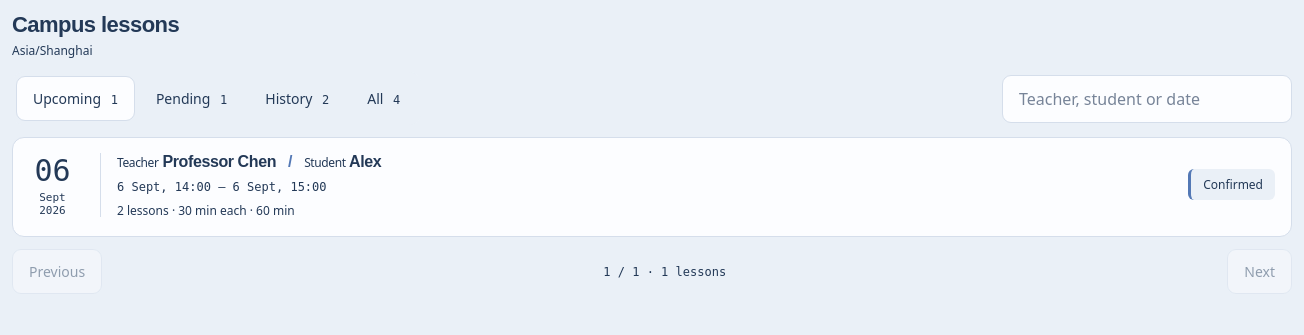
Test: campus course itinerary › filters actual groups, searches both admin participants and shows duration snapshots
Expected: the number of list items with class "itinerary-row" is 1, [13,138,1291,232]
Expected: the list item with class "itinerary-row" shows "Professor Chen", [158,153,276,170]
Click the button "Pending 1" at (192,99), box [139,76,244,121]
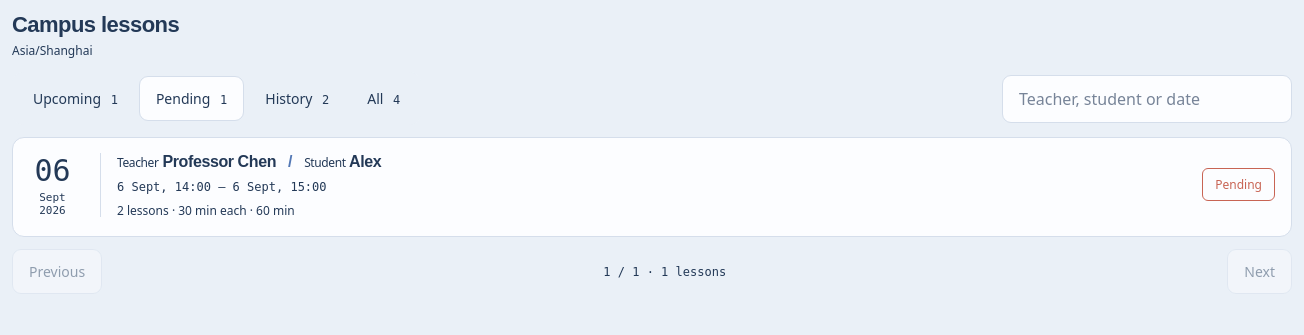
Expected: the number of list items with class "itinerary-row" is 1, [13,138,1291,232]
Click the button "History 2" at (297,99), box [248,76,346,121]
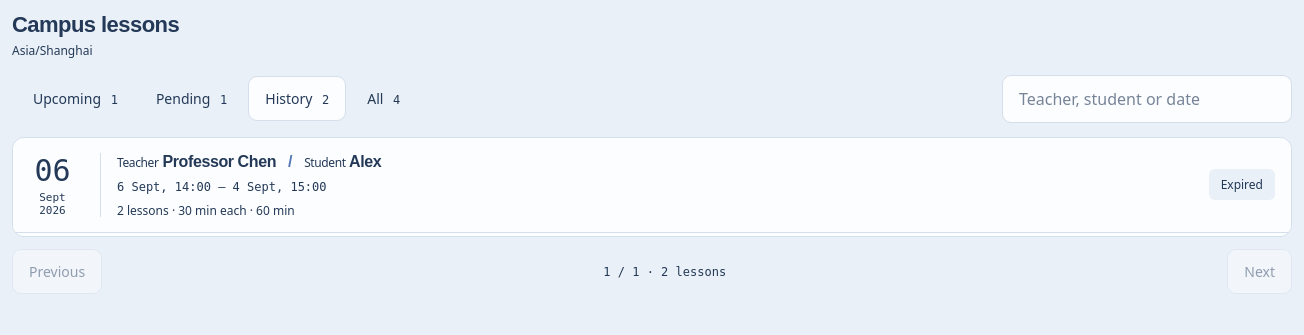
Expected: the number of list items with class "itinerary-row" is 2
Expected: the text "Expired" is shown, [1209,170,1275,200]
Click the button "All 4" at (384,99), box [350,76,417,121]
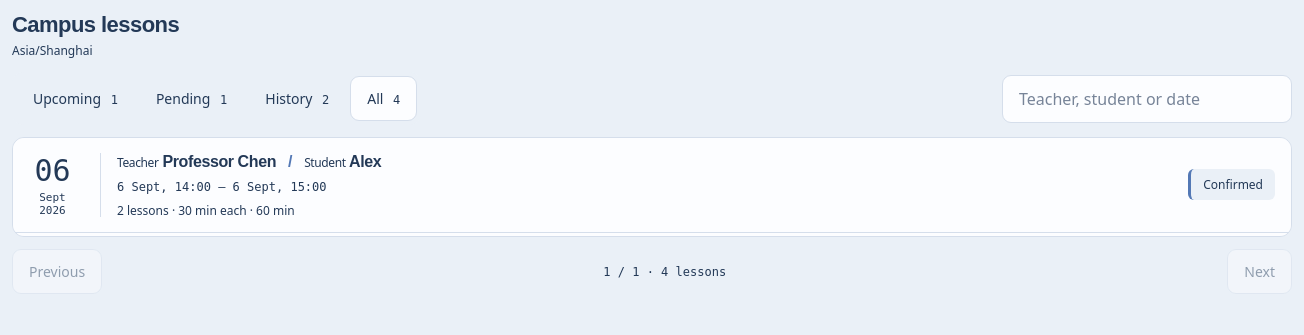
Type " alex " into the search field with placeholder "Teacher, student or date" at (1147,99), box [1002,75,1292,123]
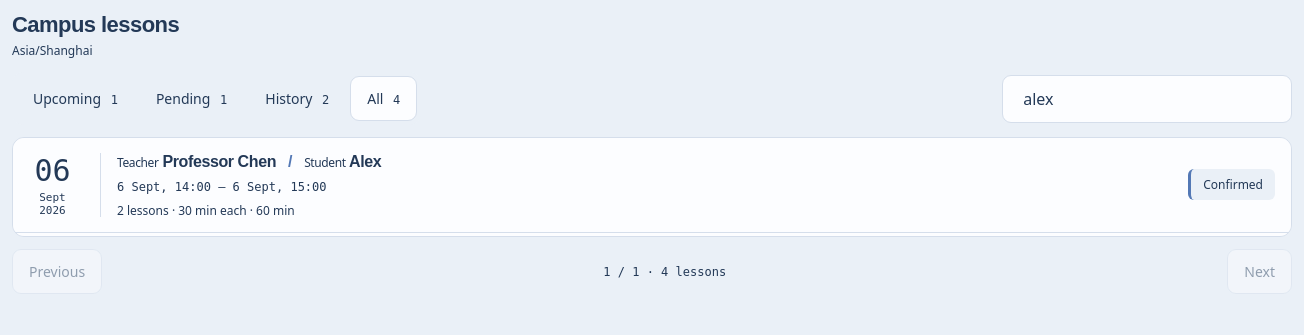
Replace the text in the search field named "Search lessons" with "missing" at (1147,99), box [1002,75,1292,123]
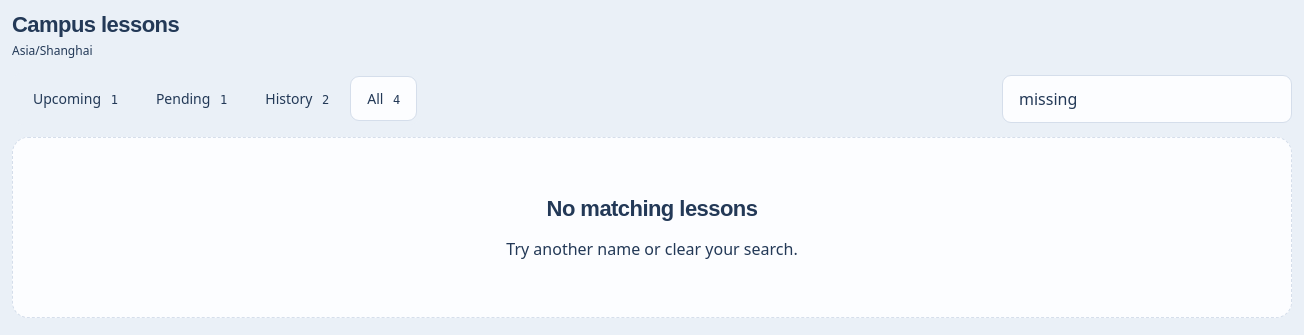
Expected: the text "No matching lessons" is shown, [547,196,757,221]
